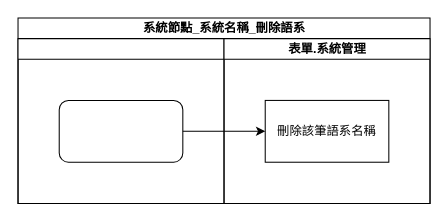
Some shapes in this 448 by 221 pixel diagram are drawn without their labels. The box of each missing label's shape, as (x1, y1, x2, y2) in pixels:
Site管理員: (17, 38, 224, 203)
點擊按鈕.刪除語系: (58, 99, 183, 162)
